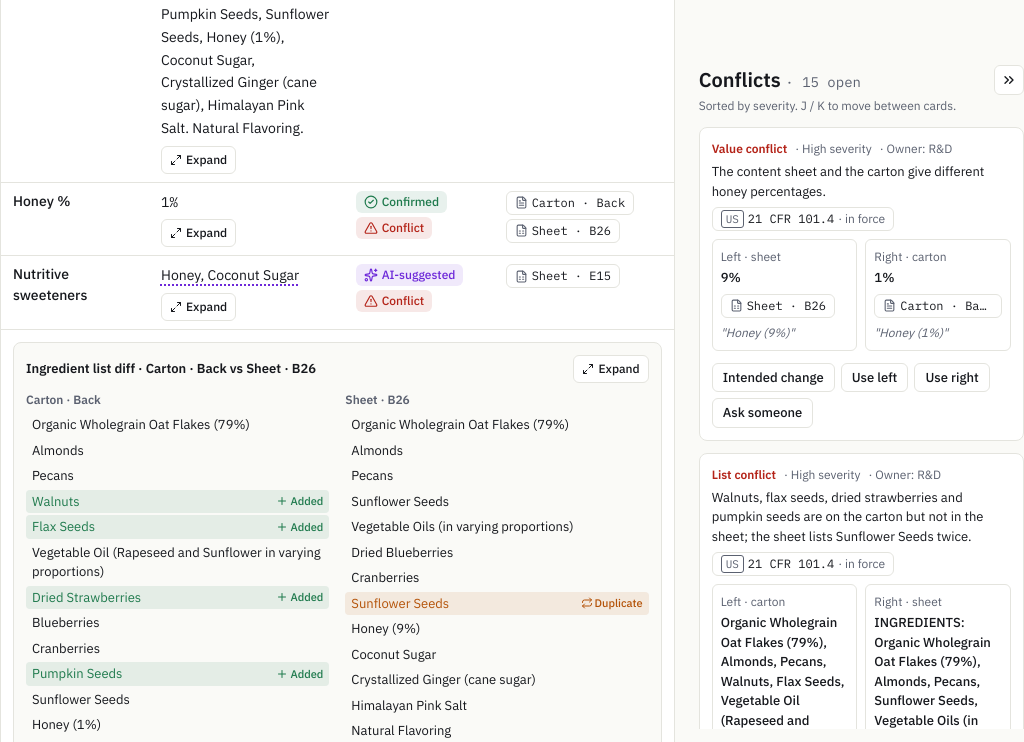
it: ingredients Expand › opens the diff in a dialog, Esc closes it and focus returns to the button
(page scrolled)
Click the button with aria-label "Expand ingredient list diff".
click(611, 369)  # box x1=573 y1=355 x2=649 y2=383
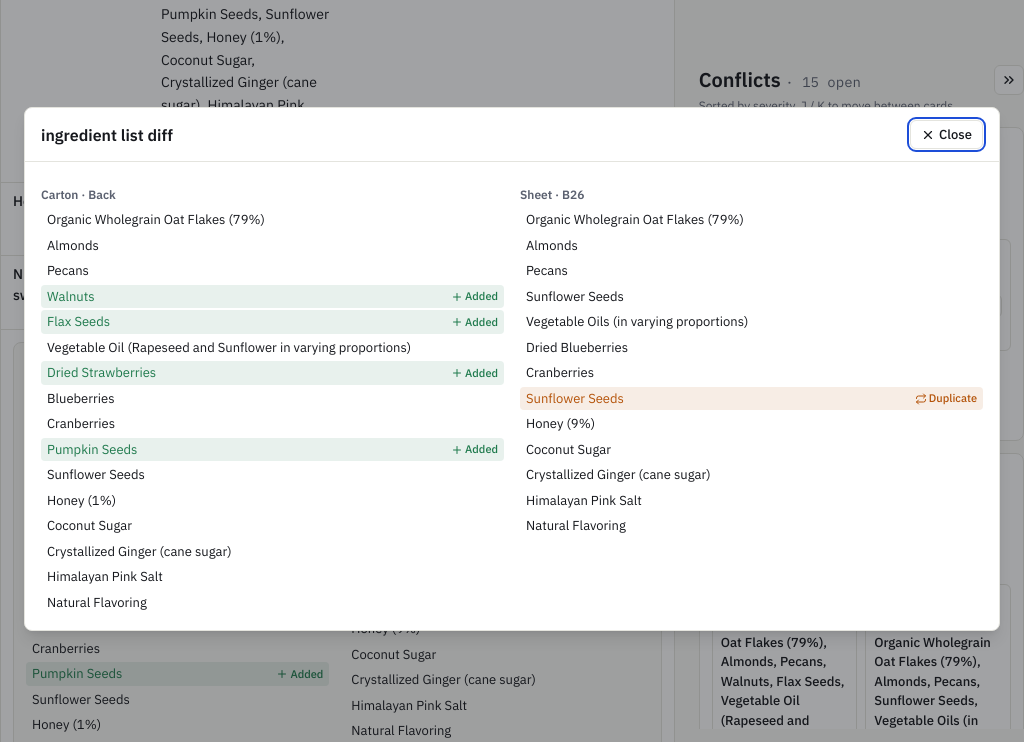
Press Escape
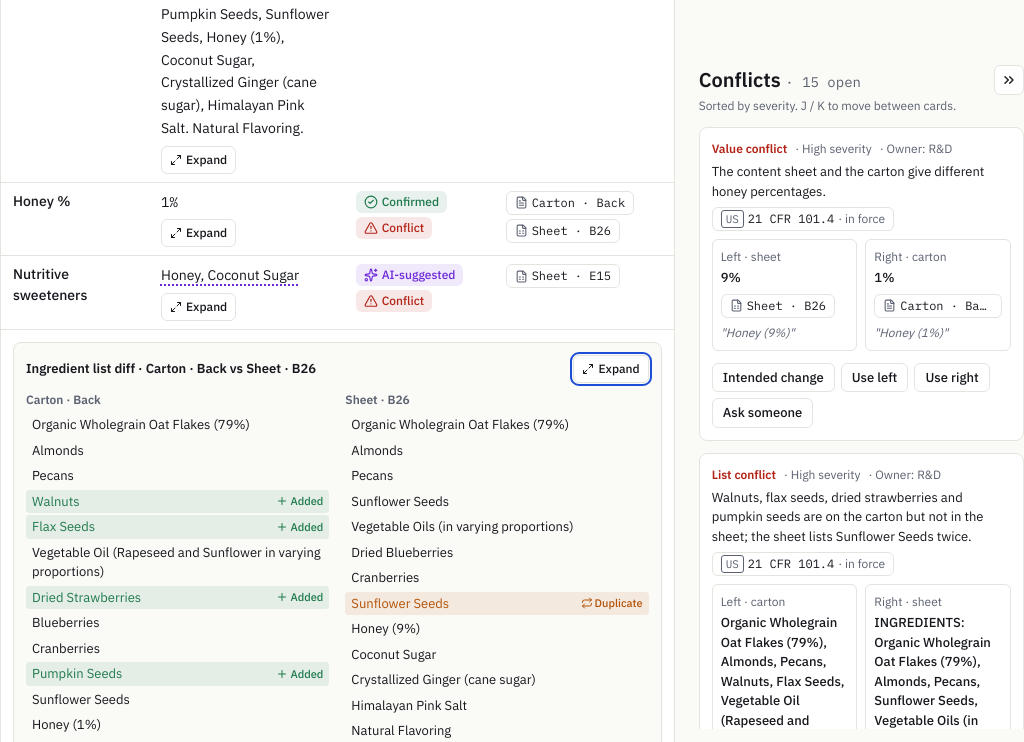
Now the dialog is gone
